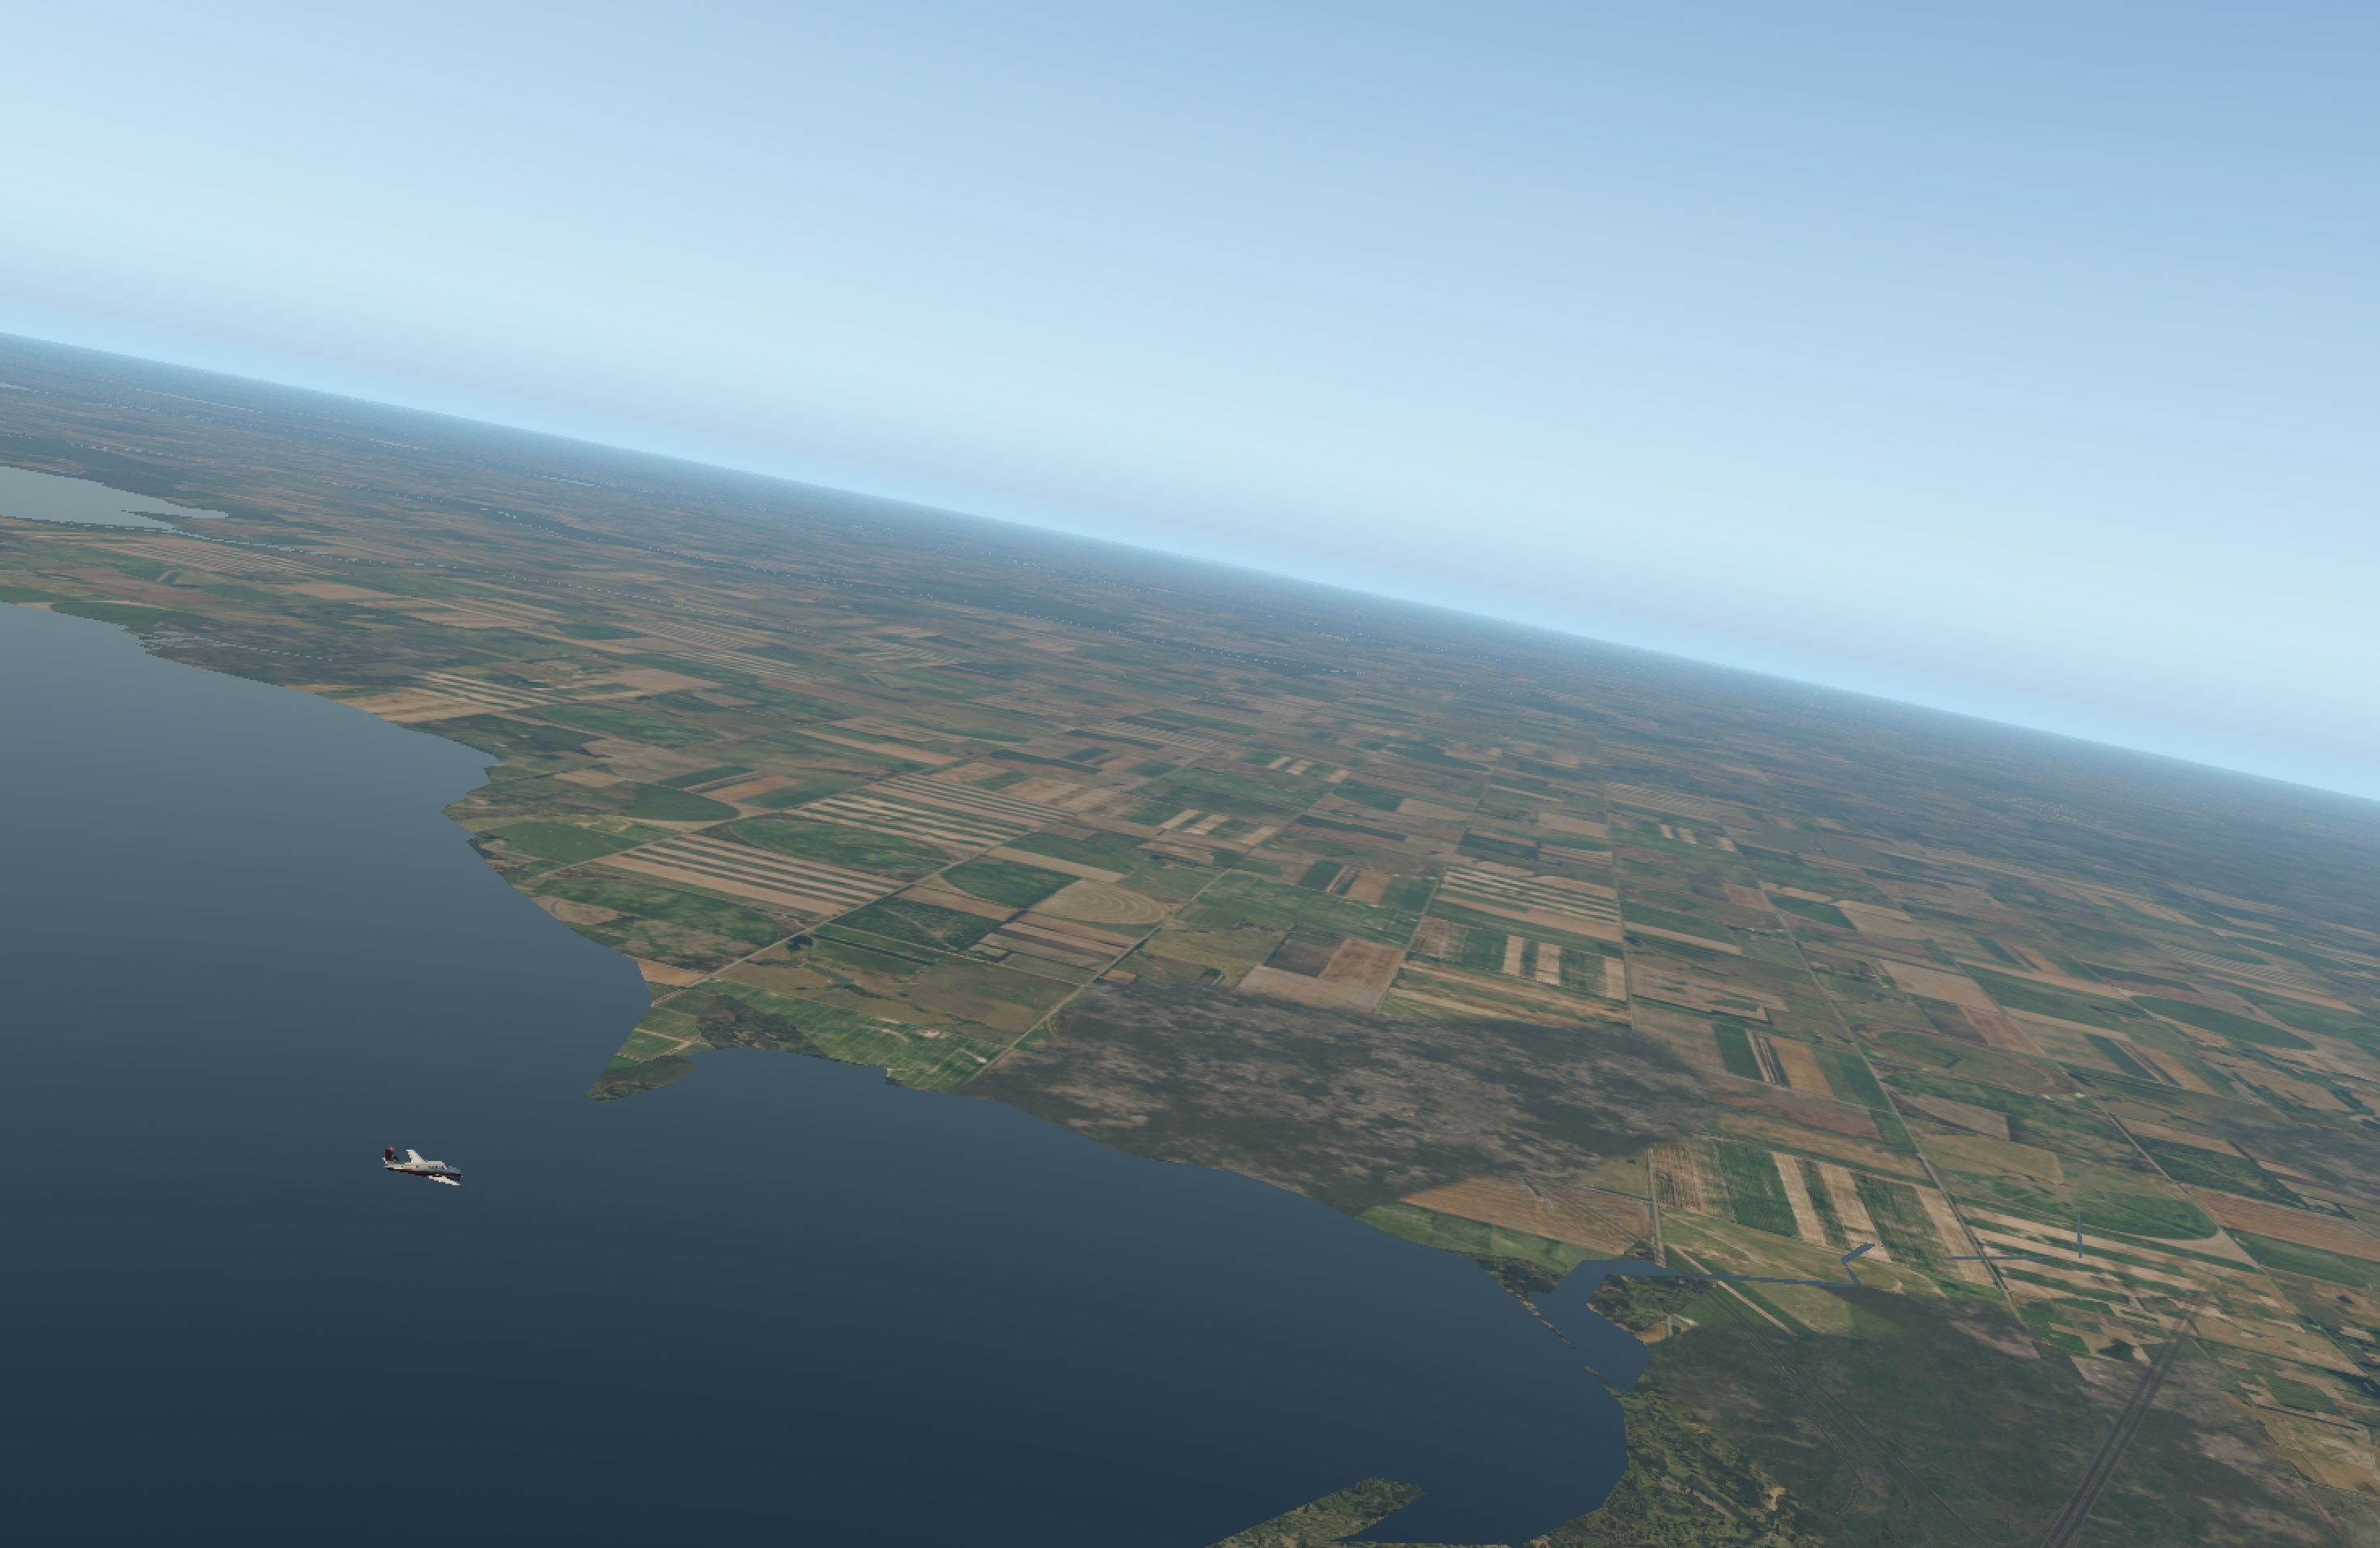aircraft: (380, 1154, 491, 1196)
